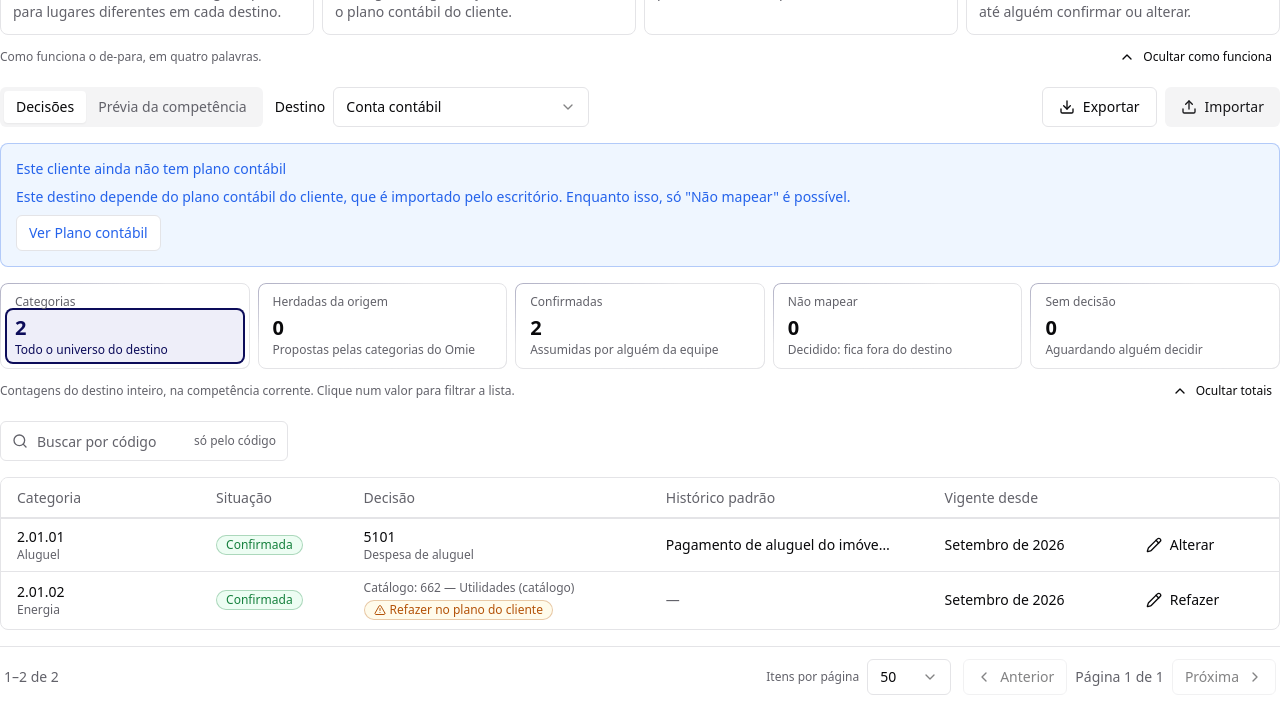
Test case: avisos por perfil — só manda agir quem tem manage_client_accounting_chart › lista: cliente sem plano › a gaveta do gerente do cliente também não manda importar
(page scrolled)
Click the button with aria-label "Alterar a categoria 2.01.01": (1180, 544) [1134,526,1226,562]
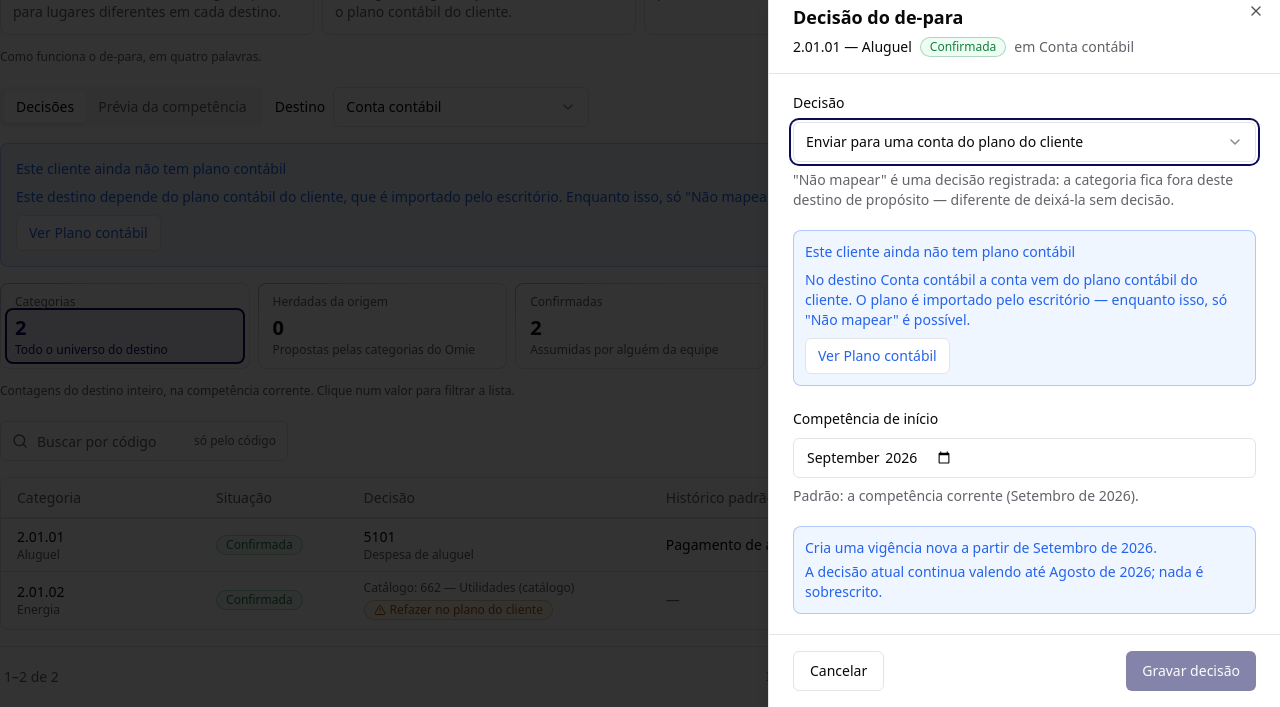
Expected: the message with test id "accounting-no-plan" does not show "Importe", [793,230,1256,386]
Result: the message with test id "accounting-no-plan" shows "O plano é importado pelo escritório" at [856,290,1090,309]
Result: the link "Ver Plano contábil" is shown at [805,338,950,374]
